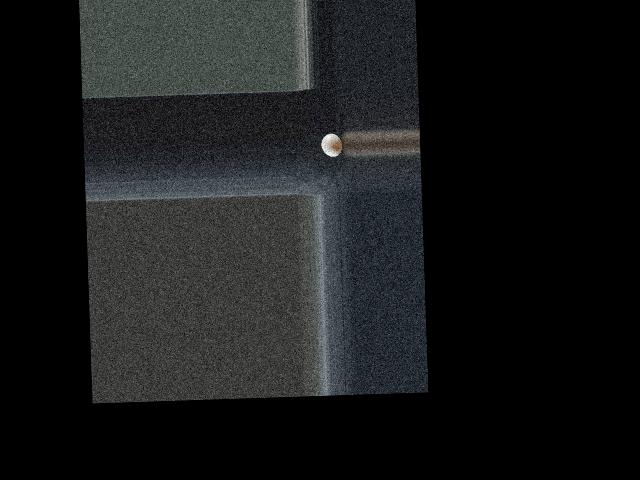egg: (320, 133, 342, 157)
